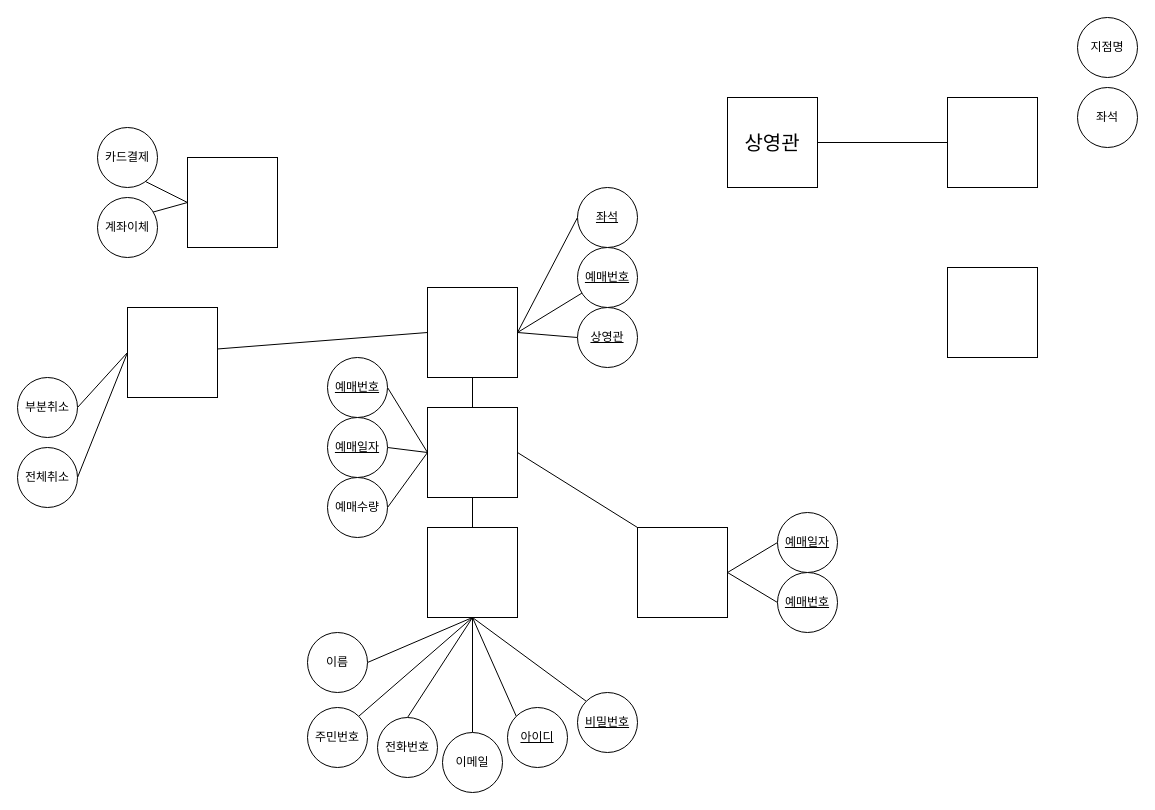
This 1155x810 diagram has some shape labels left out. Here are the shapes that lost their labels. From the top down, the box of each, then its label:
(946, 96, 1038, 188): 극장
(186, 156, 278, 248): 결제방법
(426, 286, 518, 378): 영화표
(946, 266, 1038, 358): 영화
(126, 306, 218, 398): 취소방법
(426, 406, 518, 498): 예매
(426, 526, 518, 618): 회원
(636, 526, 728, 618): 비회원
